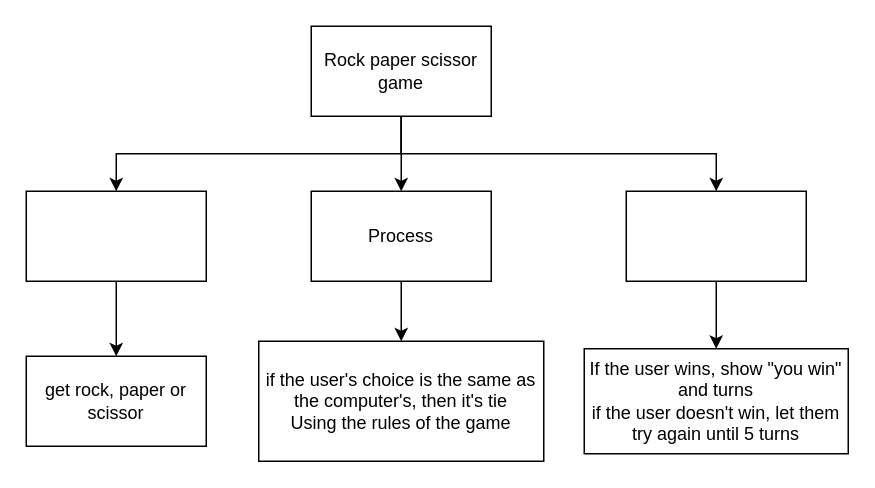
This 875x488 diagram has some shape labels left out. Here are the shapes that lost their labels. From the top down, the box of each, then its label:
(25, 190, 206, 281): Input
(625, 190, 806, 281): Output
